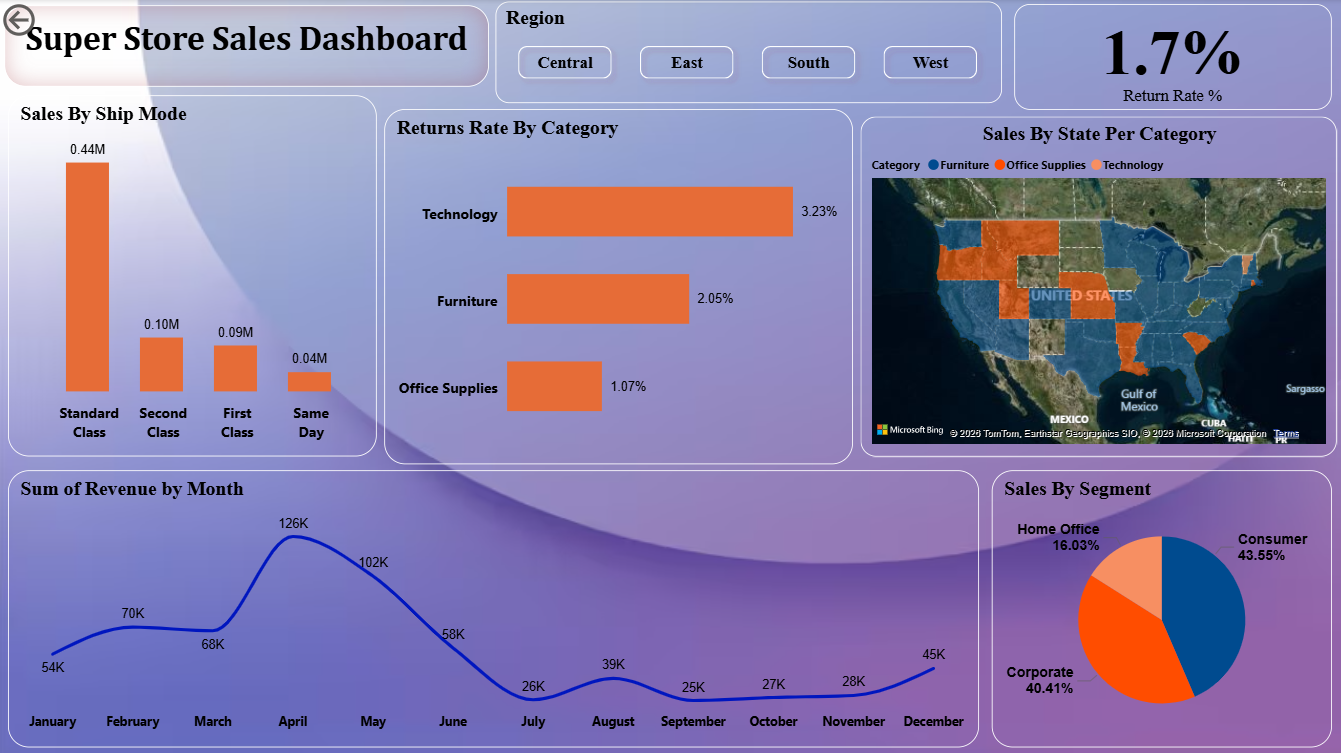

The page's visual inventory and layout, read from the dashboard file:
{"tool":"powerbi","page":{"name":"Page 2","canvas":[1280,720],"ordinal":1},"visuals":[{"type":"textbox","box":[6,6,461.9,77.4],"z":0},{"type":"lineChart","fields":{"Category":["SuperStore_Sales_Dataset.Order Date.Variation.Date Hierarchy.Month"],"Y":["Sum(SuperStore_Sales_Dataset.Revenue)"]},"box":[9.5,448.8,925,264.3],"z":1000},{"type":"clusteredColumnChart","title":"Sales By Ship Mode","fields":{"Category":["SuperStore_Sales_Dataset.Ship Mode"],"Y":["Sum(SuperStore_Sales_Dataset.Revenue)"]},"box":[9.5,91.7,351.2,344],"z":2000},{"type":"pieChart","title":"Sales By Segment","fields":{"Category":["SuperStore_Sales_Dataset.Segment"],"Y":["Sum(SuperStore_Sales_Dataset.Revenue)"]},"box":[946.4,448.8,323.8,264.3],"z":3000},{"type":"advancedSlicerVisual","title":"Select Region","fields":{"Values":["SuperStore_Sales_Dataset.Region"]},"box":[473.8,2.4,482.1,96.4],"z":4000},{"type":"filledMap","title":"Sales By State Per Category","fields":{"Category":["SuperStore_Sales_Dataset.State"],"Series":["SuperStore_Sales_Dataset.Category"]},"box":[821.4,111.9,453.6,323.8],"z":5000},{"type":"card","fields":{"Values":["SuperStore_Sales_Dataset.Return Rate %"]},"box":[967.9,4.8,302.4,101.2],"z":6000},{"type":"barChart","title":"Returns Rate By Category","fields":{"Category":["SuperStore_Sales_Dataset.Category"],"Y":["SuperStore_Sales_Dataset.Return Rate %"]},"box":[367.9,104.8,446,338.1],"z":7000},{"type":"actionButton","box":[0,0,100,40],"z":8000}]}

Visuals, with their boxes in screenshot pixels (x1, y1, x2, y2), scaled from the page's 1280x720 canvas onto the 1341x753 screenshot:
textbox: [left=6, top=6, right=490, bottom=87]
lineChart - SuperStore_Sales_Dataset.Order Date.Variation.Date Hierarchy.Month x Sum(SuperStore_Sales_Dataset.Revenue): [left=10, top=469, right=979, bottom=746]
"Sales By Ship Mode" clusteredColumnChart: [left=10, top=96, right=378, bottom=456]
"Sales By Segment" pieChart: [left=992, top=469, right=1331, bottom=746]
"Select Region" advancedSlicerVisual: [left=496, top=3, right=1001, bottom=103]
"Sales By State Per Category" filledMap: [left=861, top=117, right=1336, bottom=456]
card - SuperStore_Sales_Dataset.Return Rate %: [left=1014, top=5, right=1331, bottom=111]
"Returns Rate By Category" barChart: [left=385, top=110, right=853, bottom=463]
actionButton: [left=0, top=0, right=105, bottom=42]
